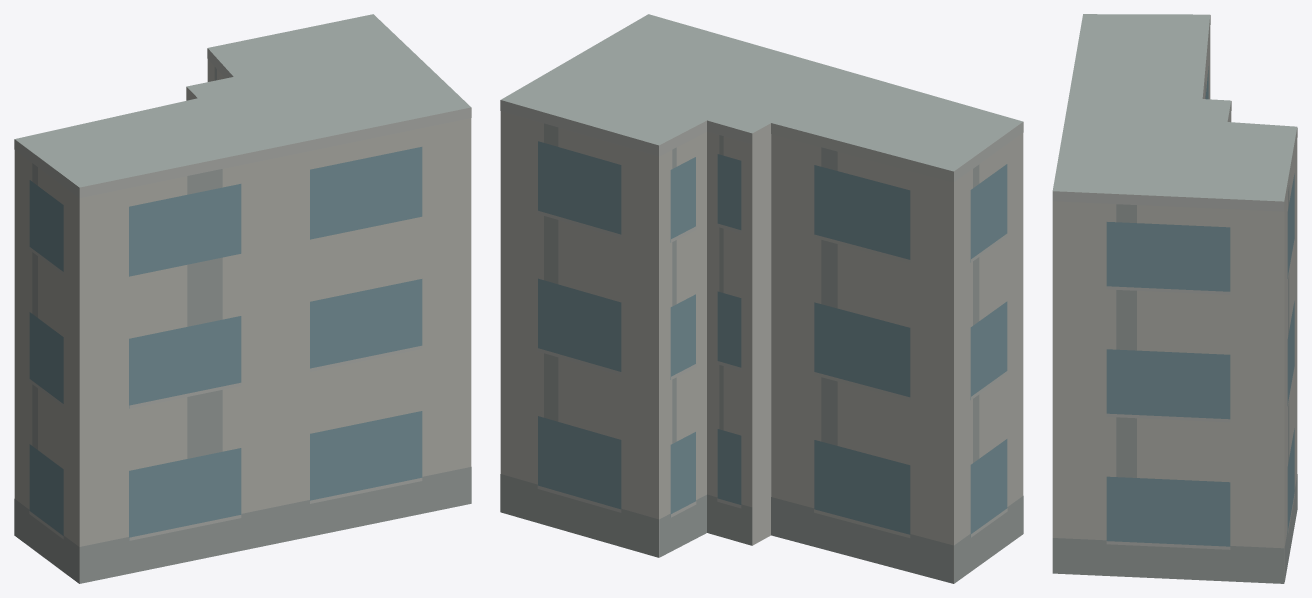
Rendered from survey-upis-33006044.glb.
The picture shows the model from 3 angles, left to right: view 1: azimuth 30°, elevation 25°; view 2: azimuth 150°, elevation 25°; view 3: azimuth 270°, elevation 25°; orthographic projection. The views are drawn at different scales.
Parts seen in each view (by area): view 1: survey-upis-33006044.tmp; view 2: survey-upis-33006044.tmp; view 3: survey-upis-33006044.tmp.
Part boxes in pixels (x1,y1,x2,y2): survey-upis-33006044.tmp: (14, 14, 471, 583); survey-upis-33006044.tmp: (500, 14, 1023, 583); survey-upis-33006044.tmp: (1052, 14, 1297, 583).
Size of the model in its own units: 9.64 by 9.15 by 5.32.
